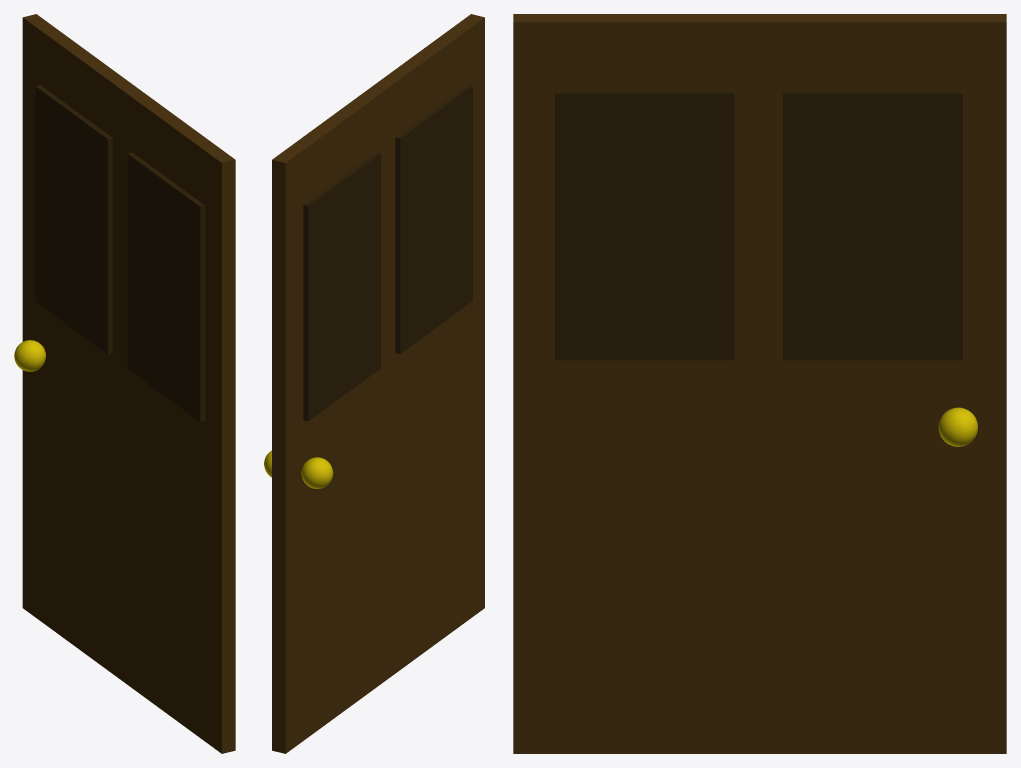
File: Door1.fbx
3 renders of one model, left to right at view 1: azimuth 30°, elevation 25°; view 2: azimuth 150°, elevation 25°; view 3: azimuth 270°, elevation 25°, orthographic. The views are drawn at different scales.
Parts seen in each view (by area): view 1: Cube, Cube.004, Cube.003, SurfSphere.001; view 2: Cube, Cube.004, Cube.003, SurfSphere.001; view 3: Cube, Cube.002, Cube.001, SurfSphere.
Part boxes in pixels (bbox=[...]): Cube: bbox=[22, 14, 235, 753]; Cube.004: bbox=[127, 152, 205, 422]; Cube.003: bbox=[35, 85, 112, 354]; SurfSphere.001: bbox=[14, 340, 45, 371]; Cube: bbox=[272, 14, 484, 753]; Cube.004: bbox=[395, 84, 472, 353]; Cube.003: bbox=[303, 152, 380, 421]; SurfSphere.001: bbox=[301, 457, 333, 488]; Cube: bbox=[513, 14, 1006, 753]; Cube.002: bbox=[783, 90, 962, 360]; Cube.001: bbox=[555, 90, 734, 360]; SurfSphere: bbox=[938, 407, 977, 446].
Size of the model in its own units: 51.33 by 447 by 273.
